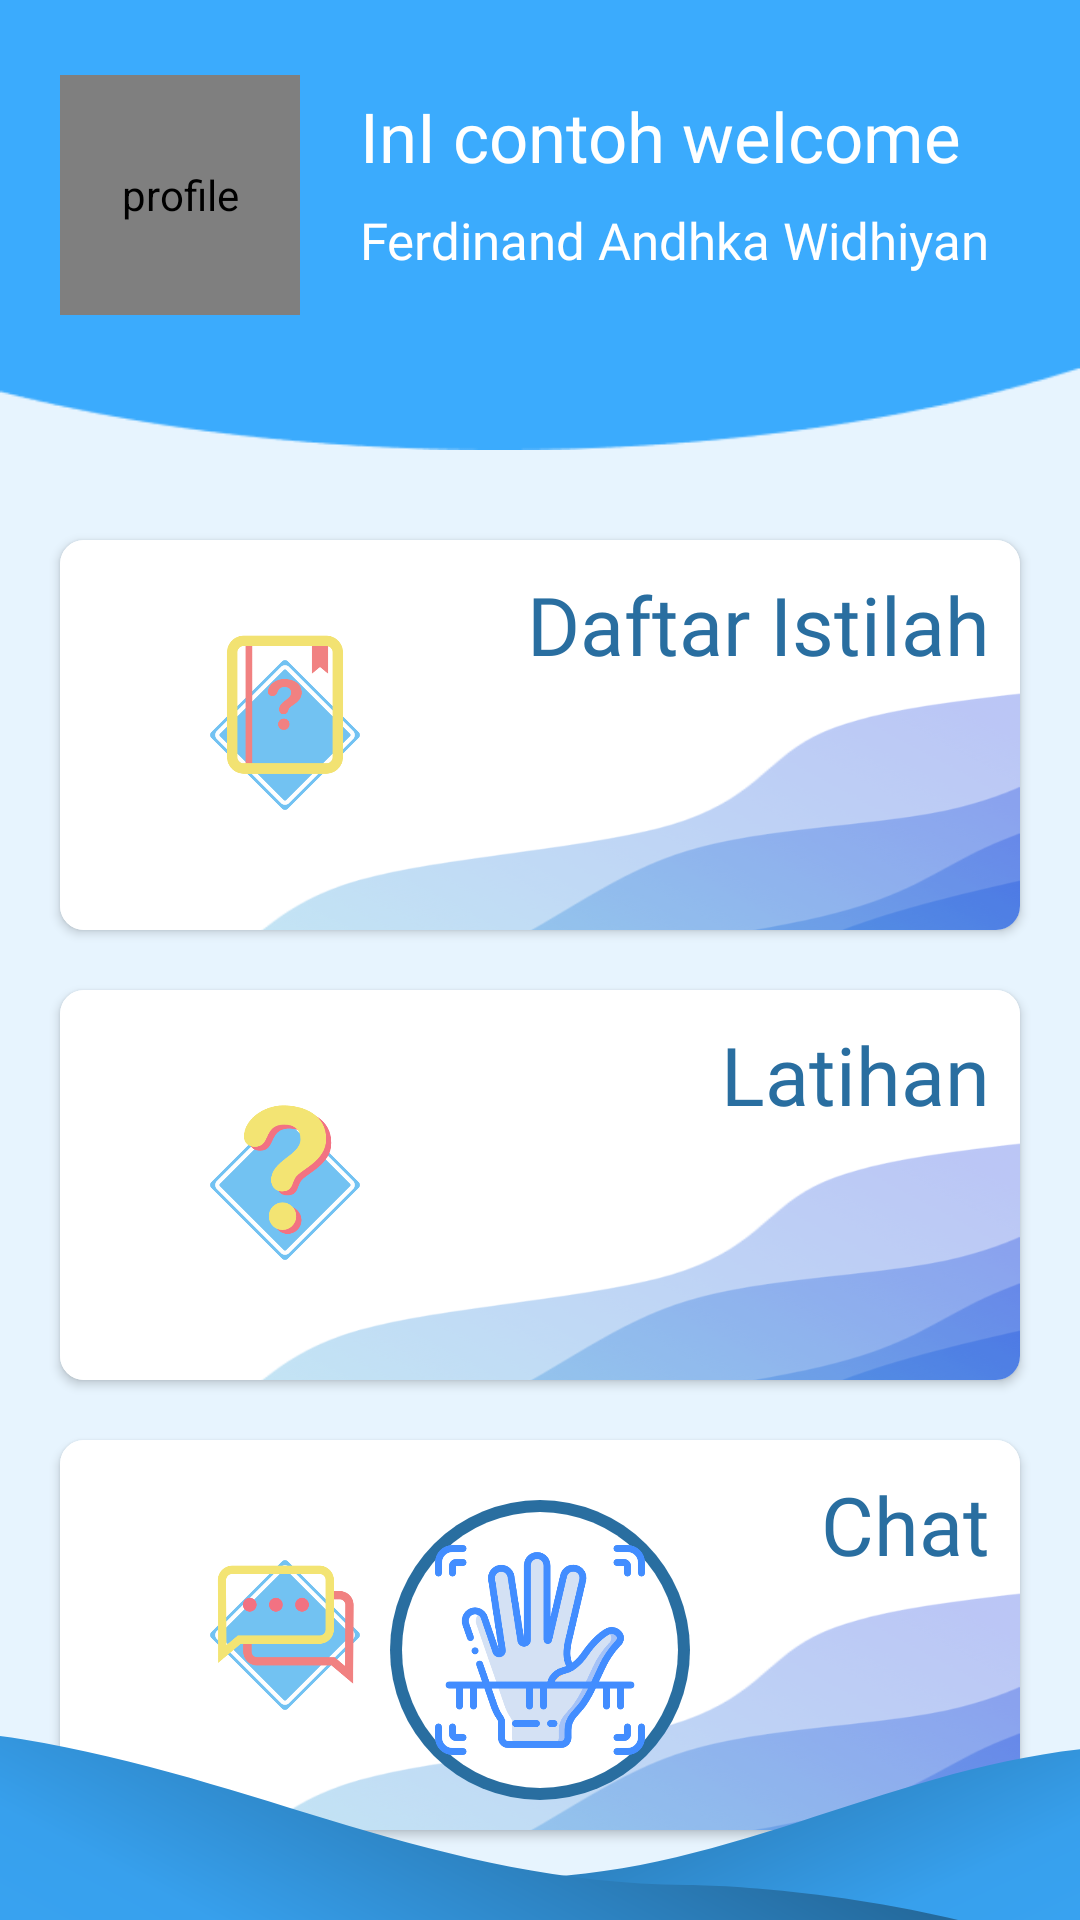

Named icons in this screenshot (1080x1920) and their bounding boxes, box=[x1, y1, x2, y2]:
glossarium: box=[210, 635, 360, 810]
quiz: box=[210, 1105, 360, 1260]
